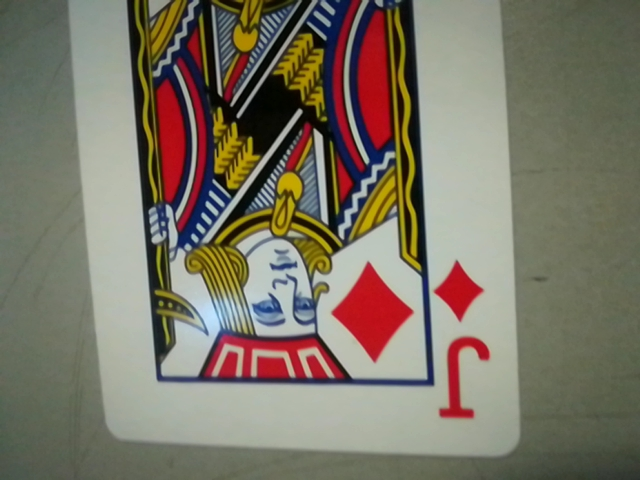fk j: (421, 251, 506, 431)
